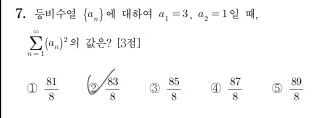choice: (84, 74, 102, 96)
not-choice: (147, 81, 161, 95), (25, 81, 38, 95), (270, 82, 283, 95), (209, 82, 221, 95)
